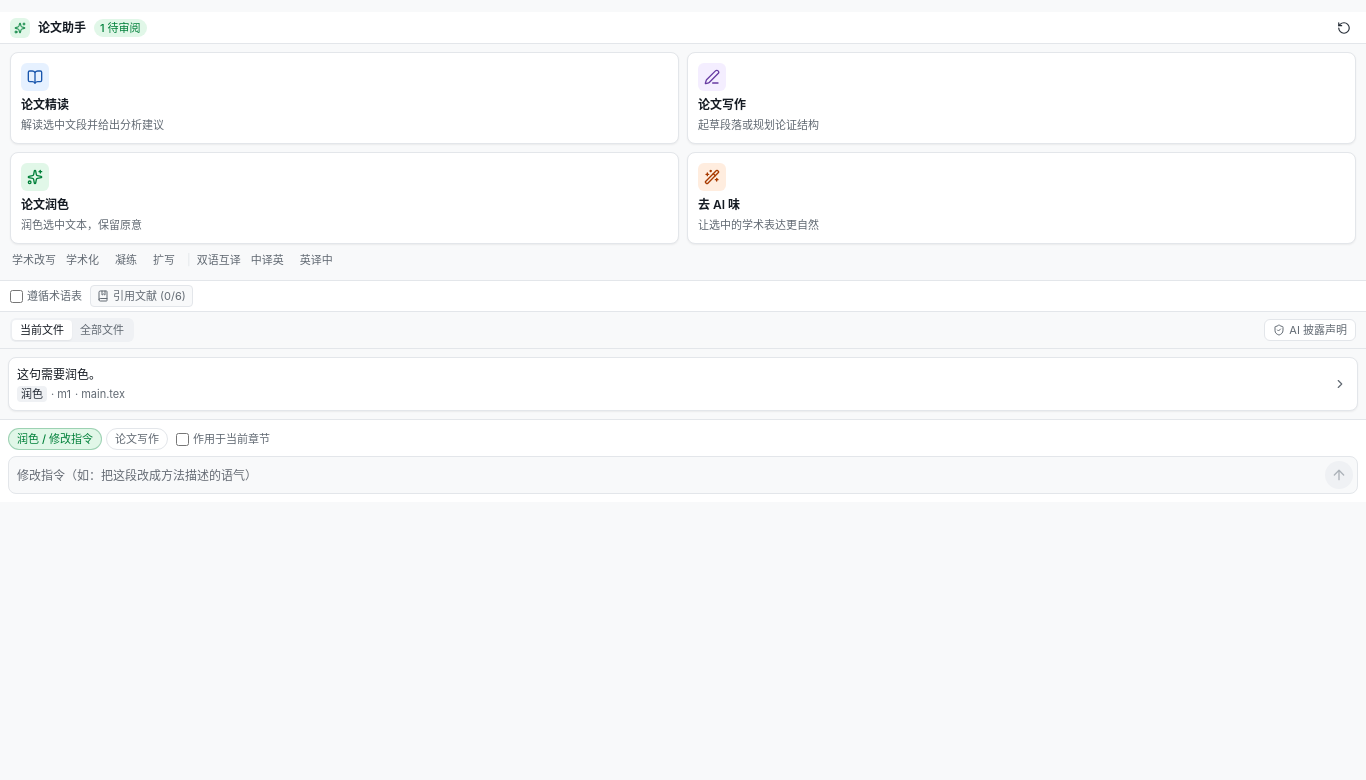
Test: ProposalPanel › 采纳失败（原文变化）：不上报 applied，提示重定位
Click the button named "展开差异": [1340, 384] box [1331,375,1349,393]
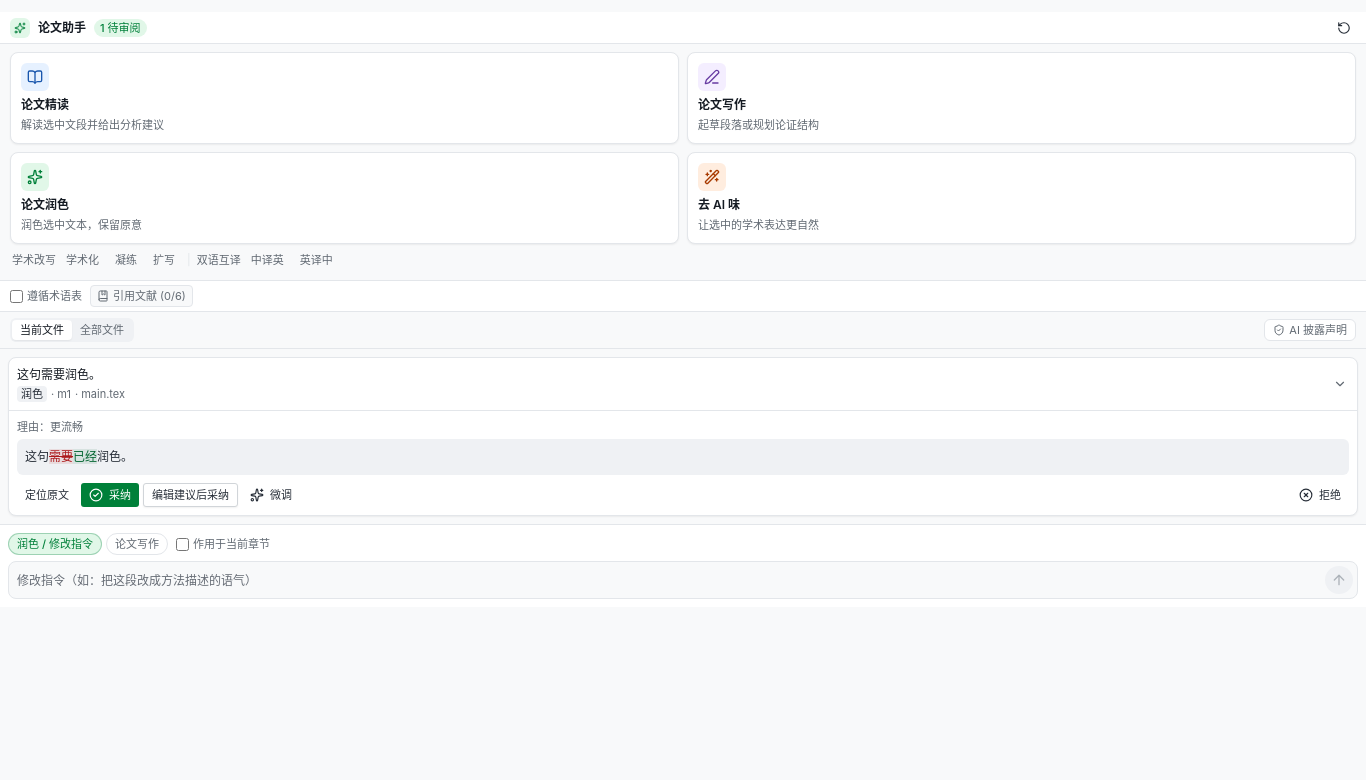
Click the button with test id "proposal-apply-pp_aaaaaaaaaaaa": [110, 495] box [81,483,139,507]
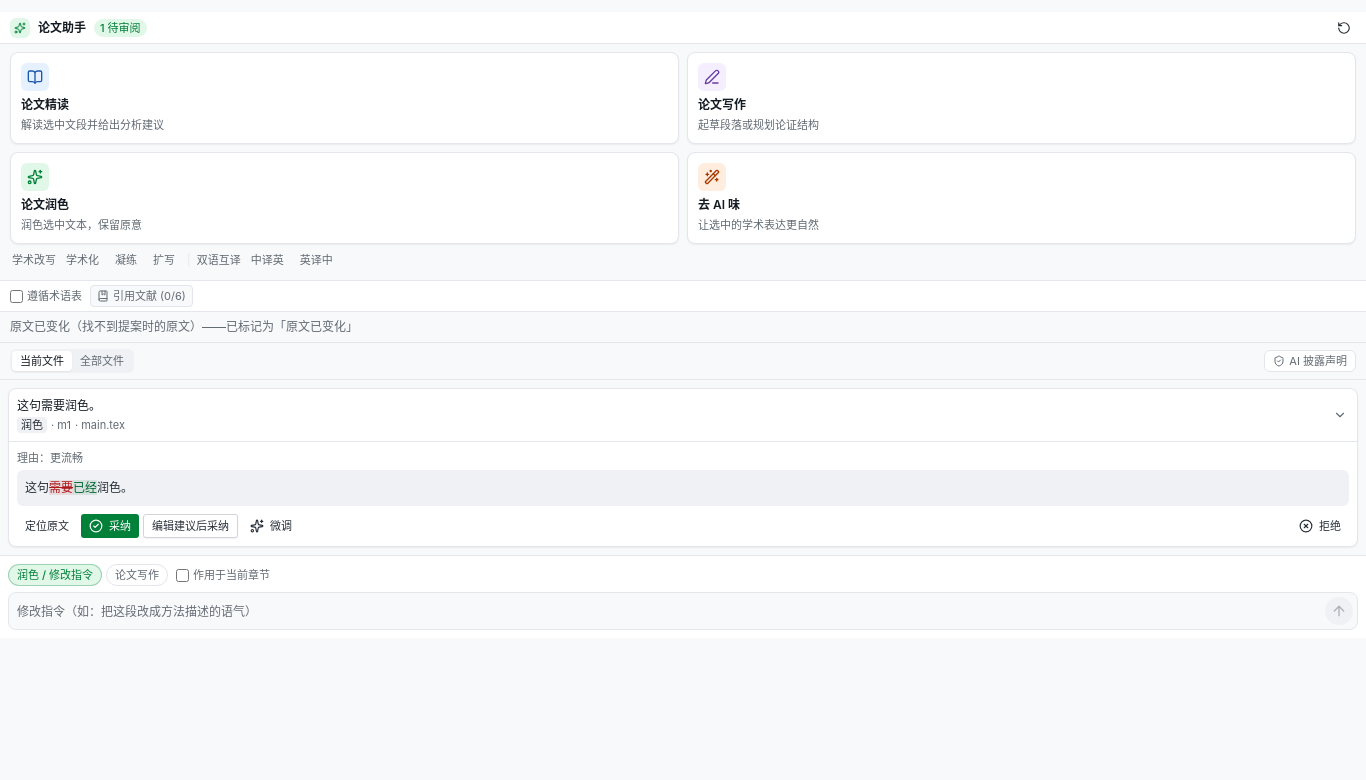
Expected: the message with test id "proposal-notice" shows "原文已变化", [10,319,358,334]
